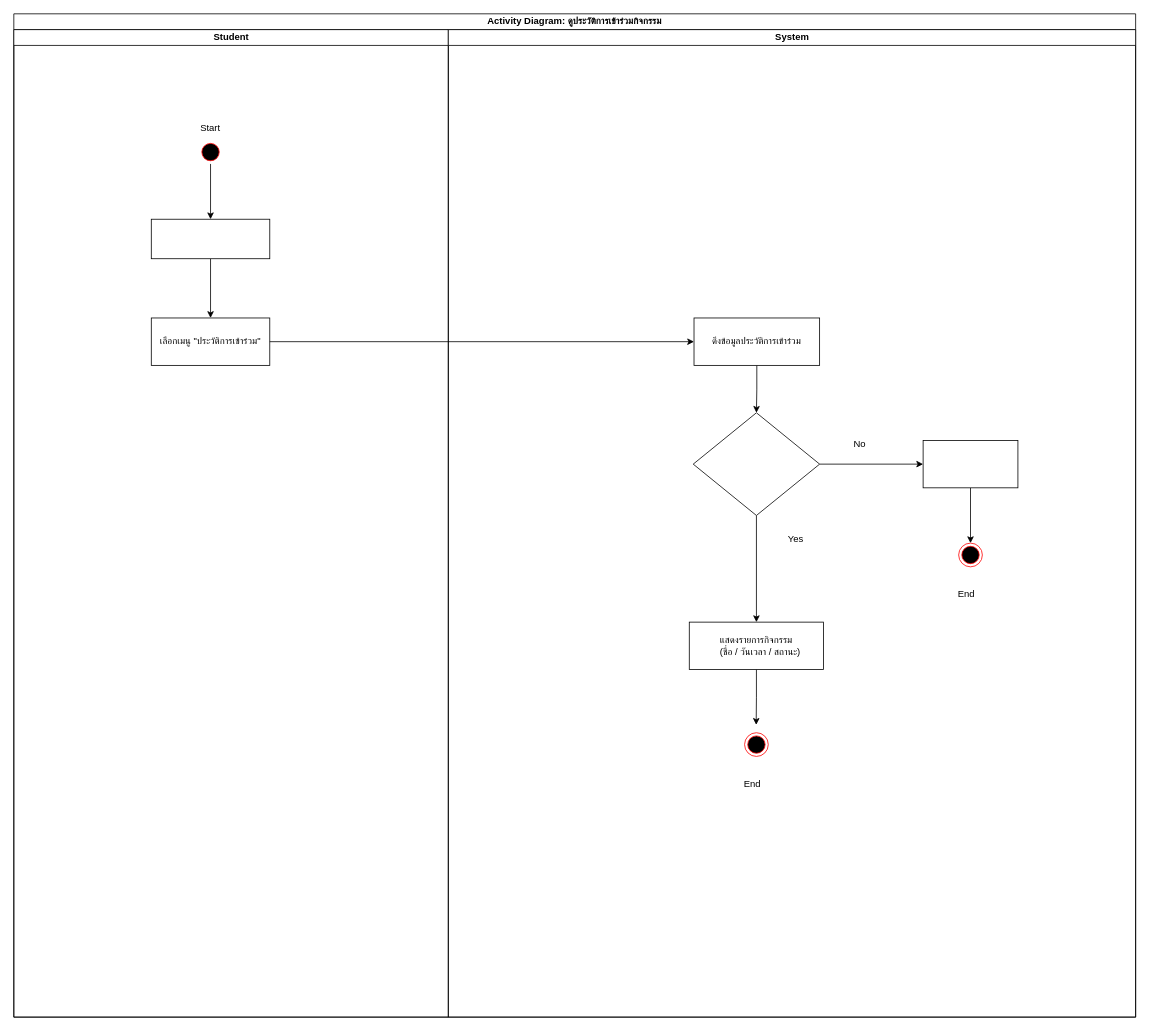
Some shapes in this 1149 by 1031 pixel diagram are drawn without their labels. Each missing label, with the centre of its shape:
พบข้อมูลหรือไม่: pixel 756 463
เข้าสู่ระบบ: pixel 210 238
แสดง "ไม่พบประวัติ": pixel 970 464
